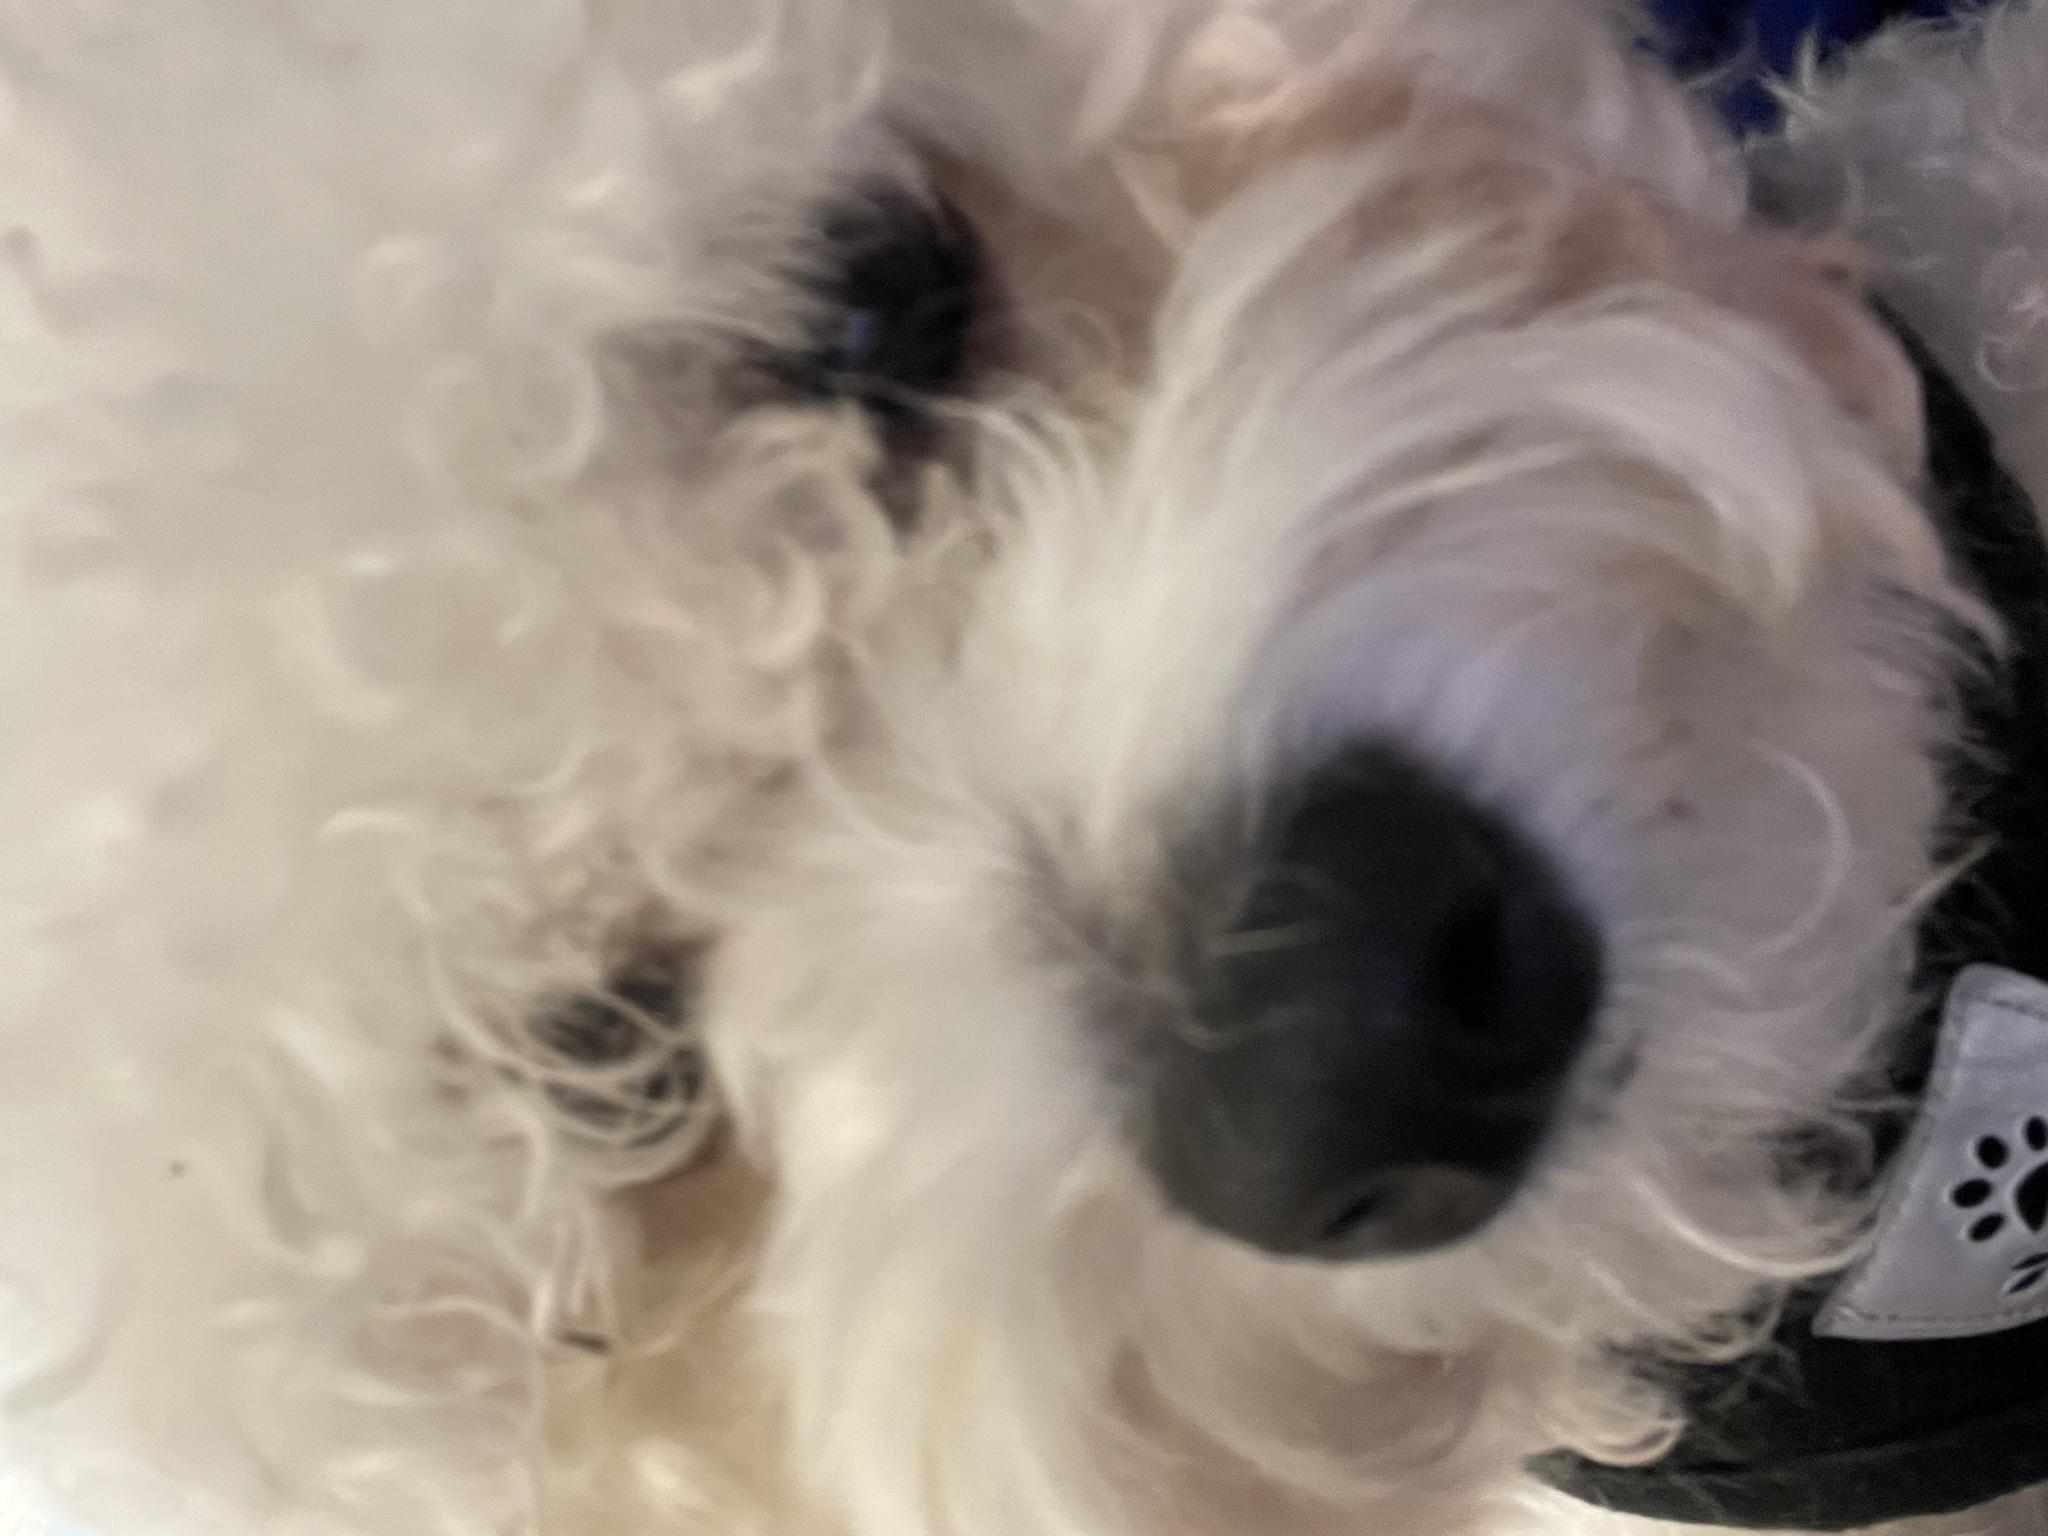dog: (2, 3, 1532, 1536)
